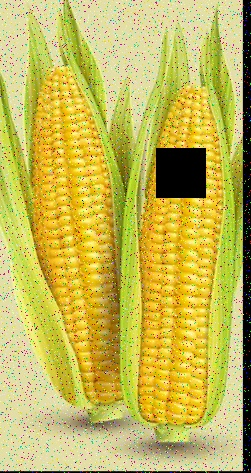corn: (18, 27, 138, 428), (123, 51, 238, 440)
